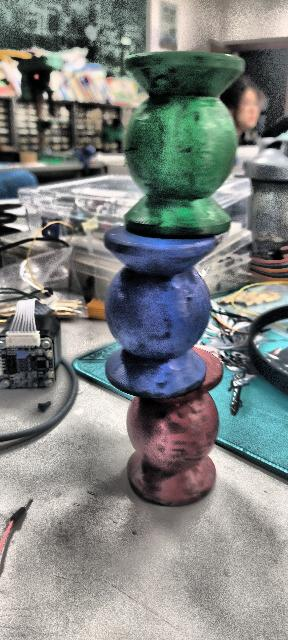blue: (102, 225, 216, 399)
green: (122, 49, 246, 242)
red: (122, 346, 224, 509)
